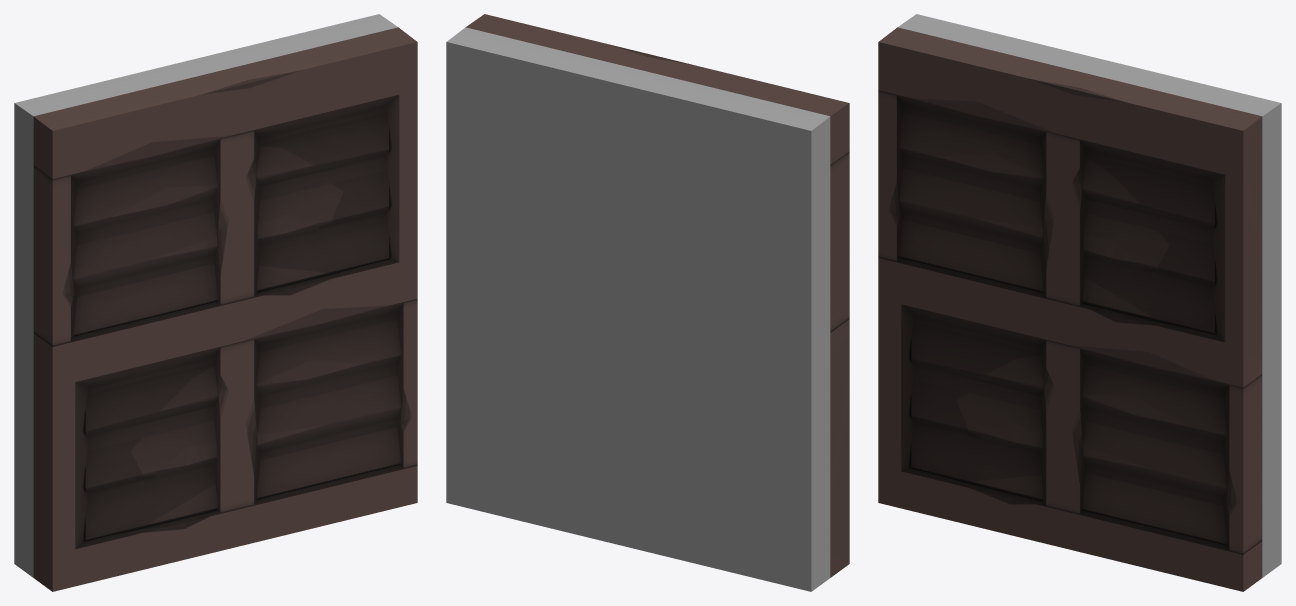
Rendered from SM_Bld_Wall_Block_Half_01.fbx.
The picture shows the model from 3 angles, left to right: view 1: azimuth 30°, elevation 25°; view 2: azimuth 150°, elevation 25°; view 3: azimuth 330°, elevation 25°; orthographic projection.
Parts seen in each view (by area): view 1: SM_Bld_Wall_Block_Half_01; view 2: SM_Bld_Wall_Block_Half_01; view 3: SM_Bld_Wall_Block_Half_01.
Part boxes in pixels (x1,y1,x2,y2): SM_Bld_Wall_Block_Half_01: [14, 14, 417, 591]; SM_Bld_Wall_Block_Half_01: [446, 14, 849, 591]; SM_Bld_Wall_Block_Half_01: [878, 14, 1281, 591].
Bounding box in the file's own units: 124 × 150 × 22.5.
